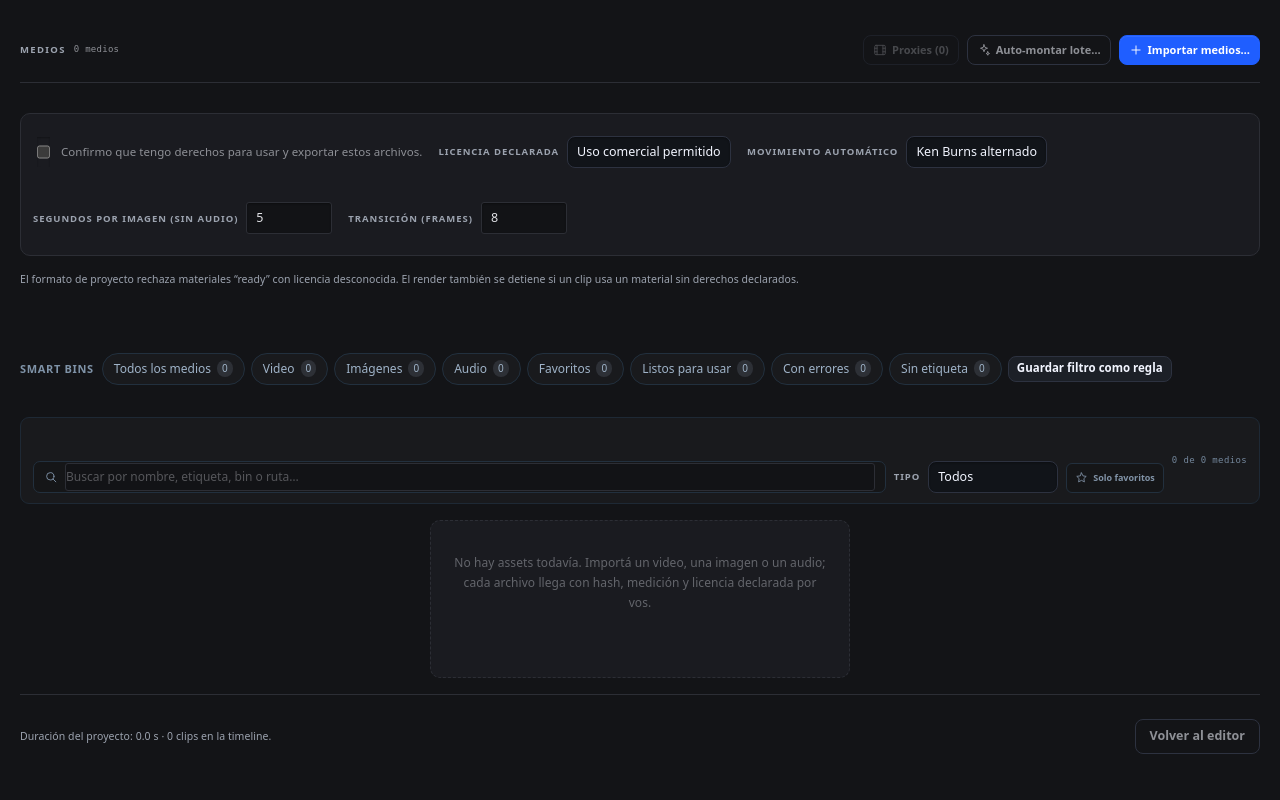
AssetsPanel · auto-montar lote › exige confirmar derechos antes de abrir el selector
The width and height of the screenshot is (1280, 800).
Click the button "Auto-montar lote…": [1039, 50] box [967, 35, 1111, 65]
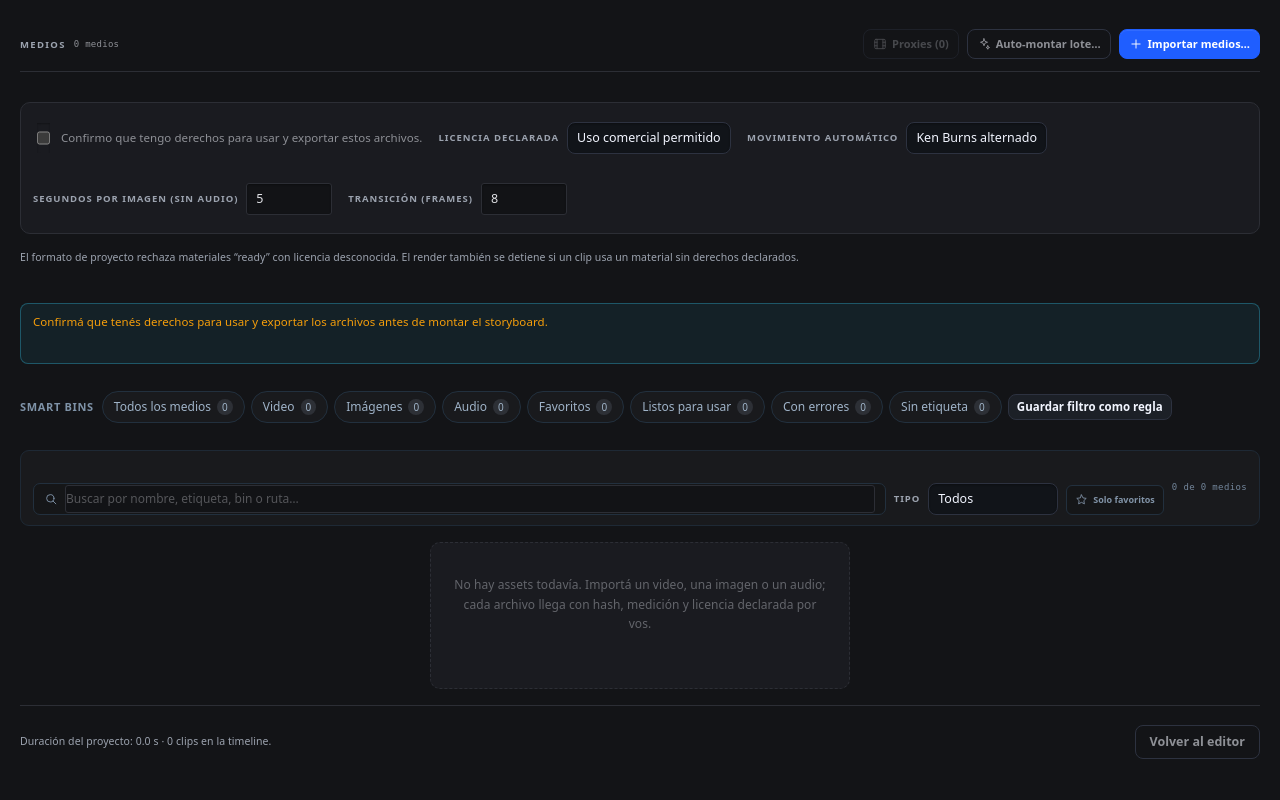
Expected: the text "Confirmá que tenés derechos" is shown, [33, 314, 548, 329]
